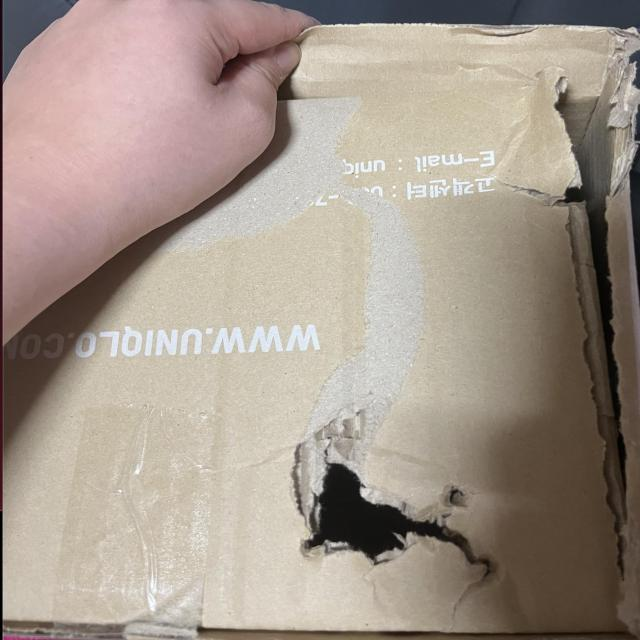damaged: (287, 455, 489, 562)
